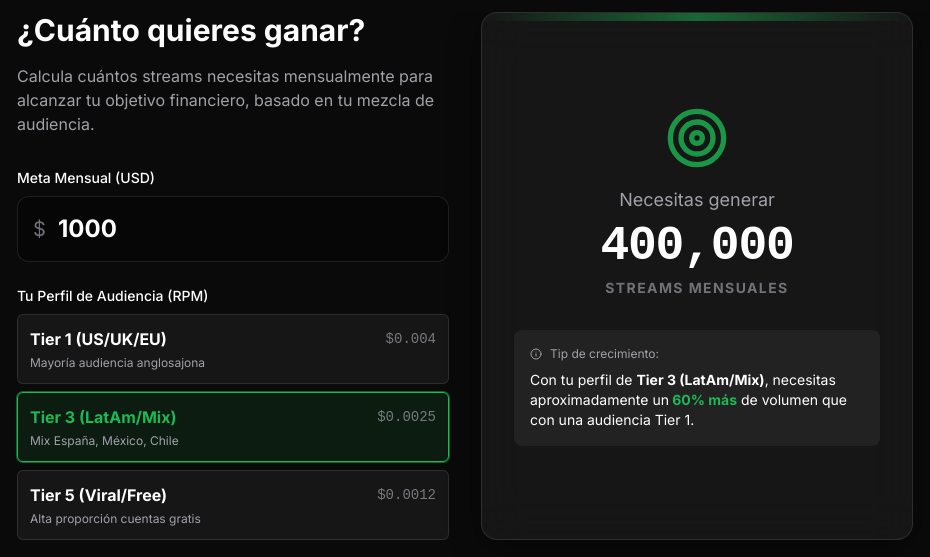
Test: GoalCalculator › should update calculation when goal amount changes
Replace the text in the number field showing "1000" with "2000" at {"x": 233, "y": 229}, box [17,196,449,262]
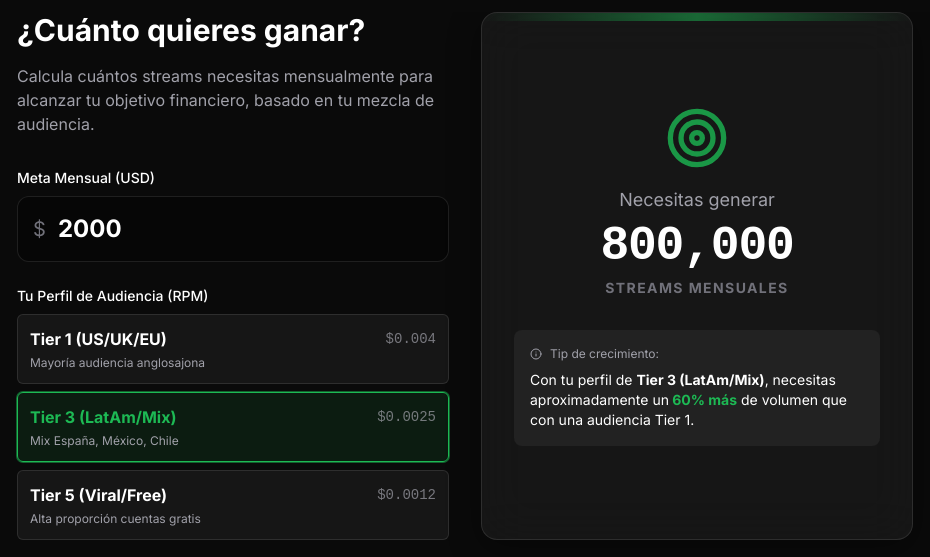
Check: the text "800,000" is shown, box [600,222,794,270]
